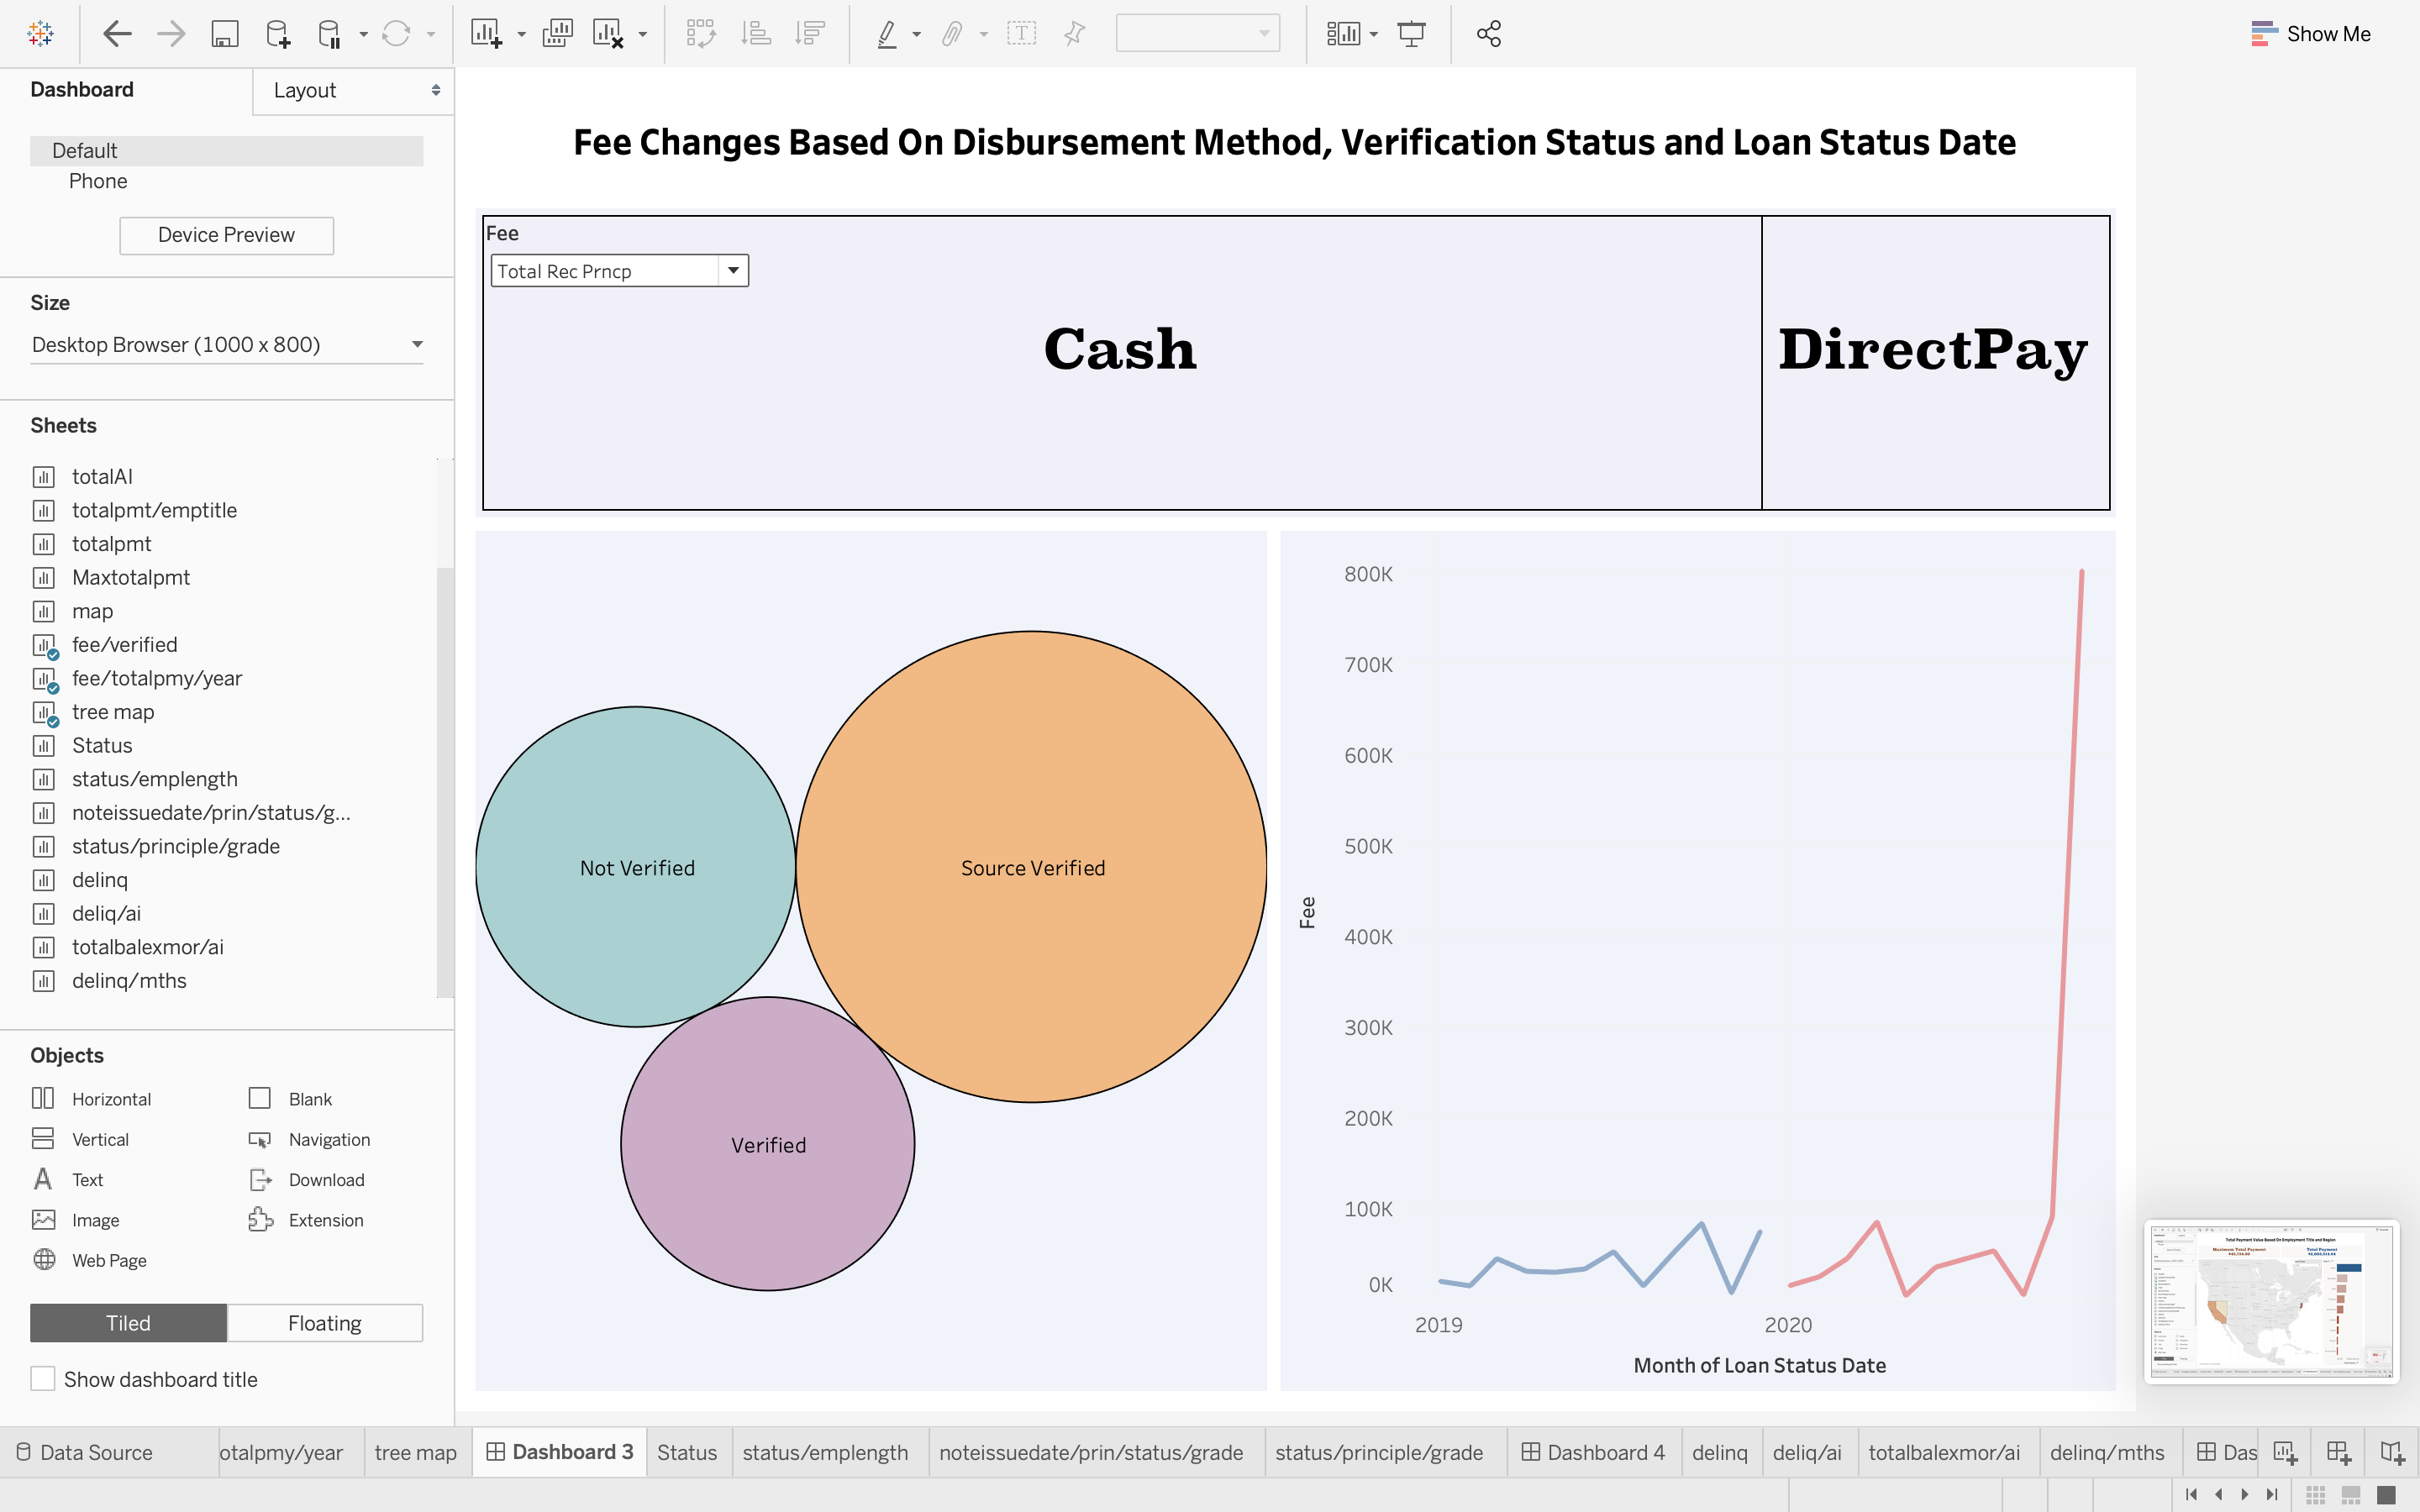

What the dashboard file says about the page in this screenshot:
{"tool":"tableau","page":{"name":"Dashboard 3","canvas":[1000,800],"ordinal":1},"visuals":[{"type":"worksheet","box":[0,0,1000,800]},{"type":"worksheet","box":[8,8,984,72]},{"type":"worksheet","param":"horz","box":[8,80,984,712]},{"type":"worksheet","param":"horz","box":[8,80,984,712]},{"type":"worksheet","param":"vert","box":[8,80,984,712]},{"type":"worksheet","title":"tree map","mark":"Automatic","box":[8,80,984,192]},{"type":"worksheet","param":"[Parameters].[Parameter 1]","box":[18,90,160,44]},{"type":"worksheet","param":"horz","box":[8,272,984,520]},{"type":"worksheet","title":"fee/verified","mark":"Circle","box":[8,272,479,520]},{"type":"worksheet","title":"fee/totalpmy/year","mark":"Automatic","rows":["Calculation_5230156962161025027"],"cols":["LoanStatusDate"],"box":[487,272,505,520]}]}

Visuals, with their boxes on the page's 1000x800 design canvas (x1, y1, x2, y2). These are canvas units, not pixel positions in the 2420x1512 screenshot, which may show the page scaled, cropped or inside an application window:
worksheet: region(0, 0, 1000, 800)
worksheet: region(8, 8, 992, 80)
worksheet: region(8, 80, 992, 792)
worksheet: region(8, 80, 992, 792)
worksheet: region(8, 80, 992, 792)
"tree map" worksheet: region(8, 80, 992, 272)
worksheet: region(18, 90, 178, 134)
worksheet: region(8, 272, 992, 792)
"fee/verified" worksheet (Circle marks): region(8, 272, 487, 792)
"fee/totalpmy/year" worksheet: region(487, 272, 992, 792)
